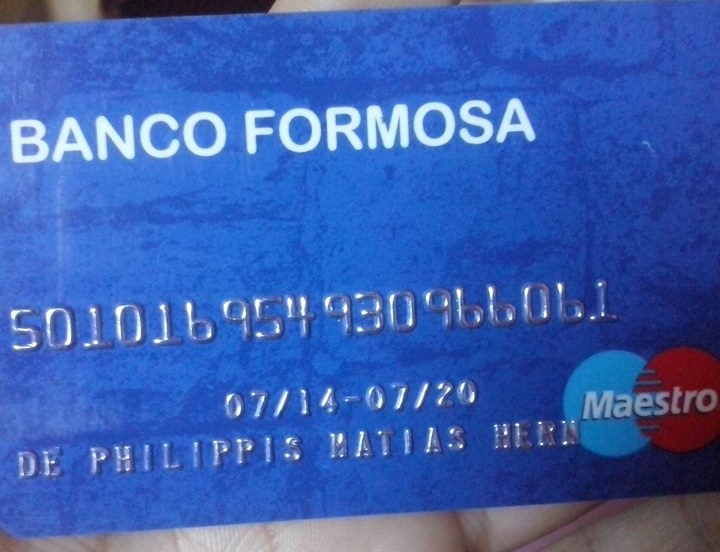tarjeta: (1, 1, 720, 541)
